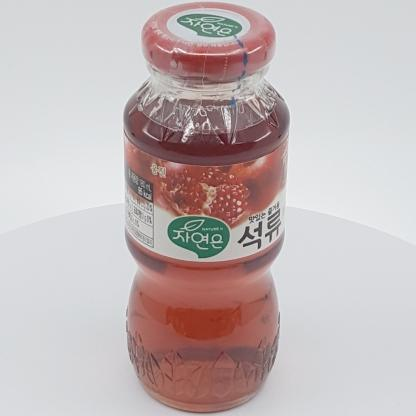-------180ML: (122, 2, 291, 412)
